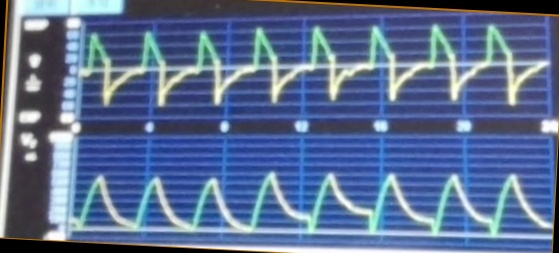Flow: (84, 22, 543, 118)
Leakage Volume: (75, 149, 547, 240)
